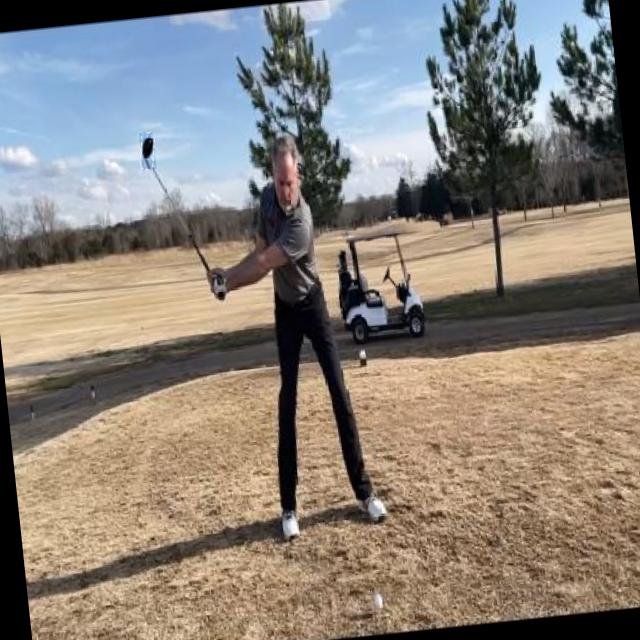club head: (138, 132, 156, 170)
